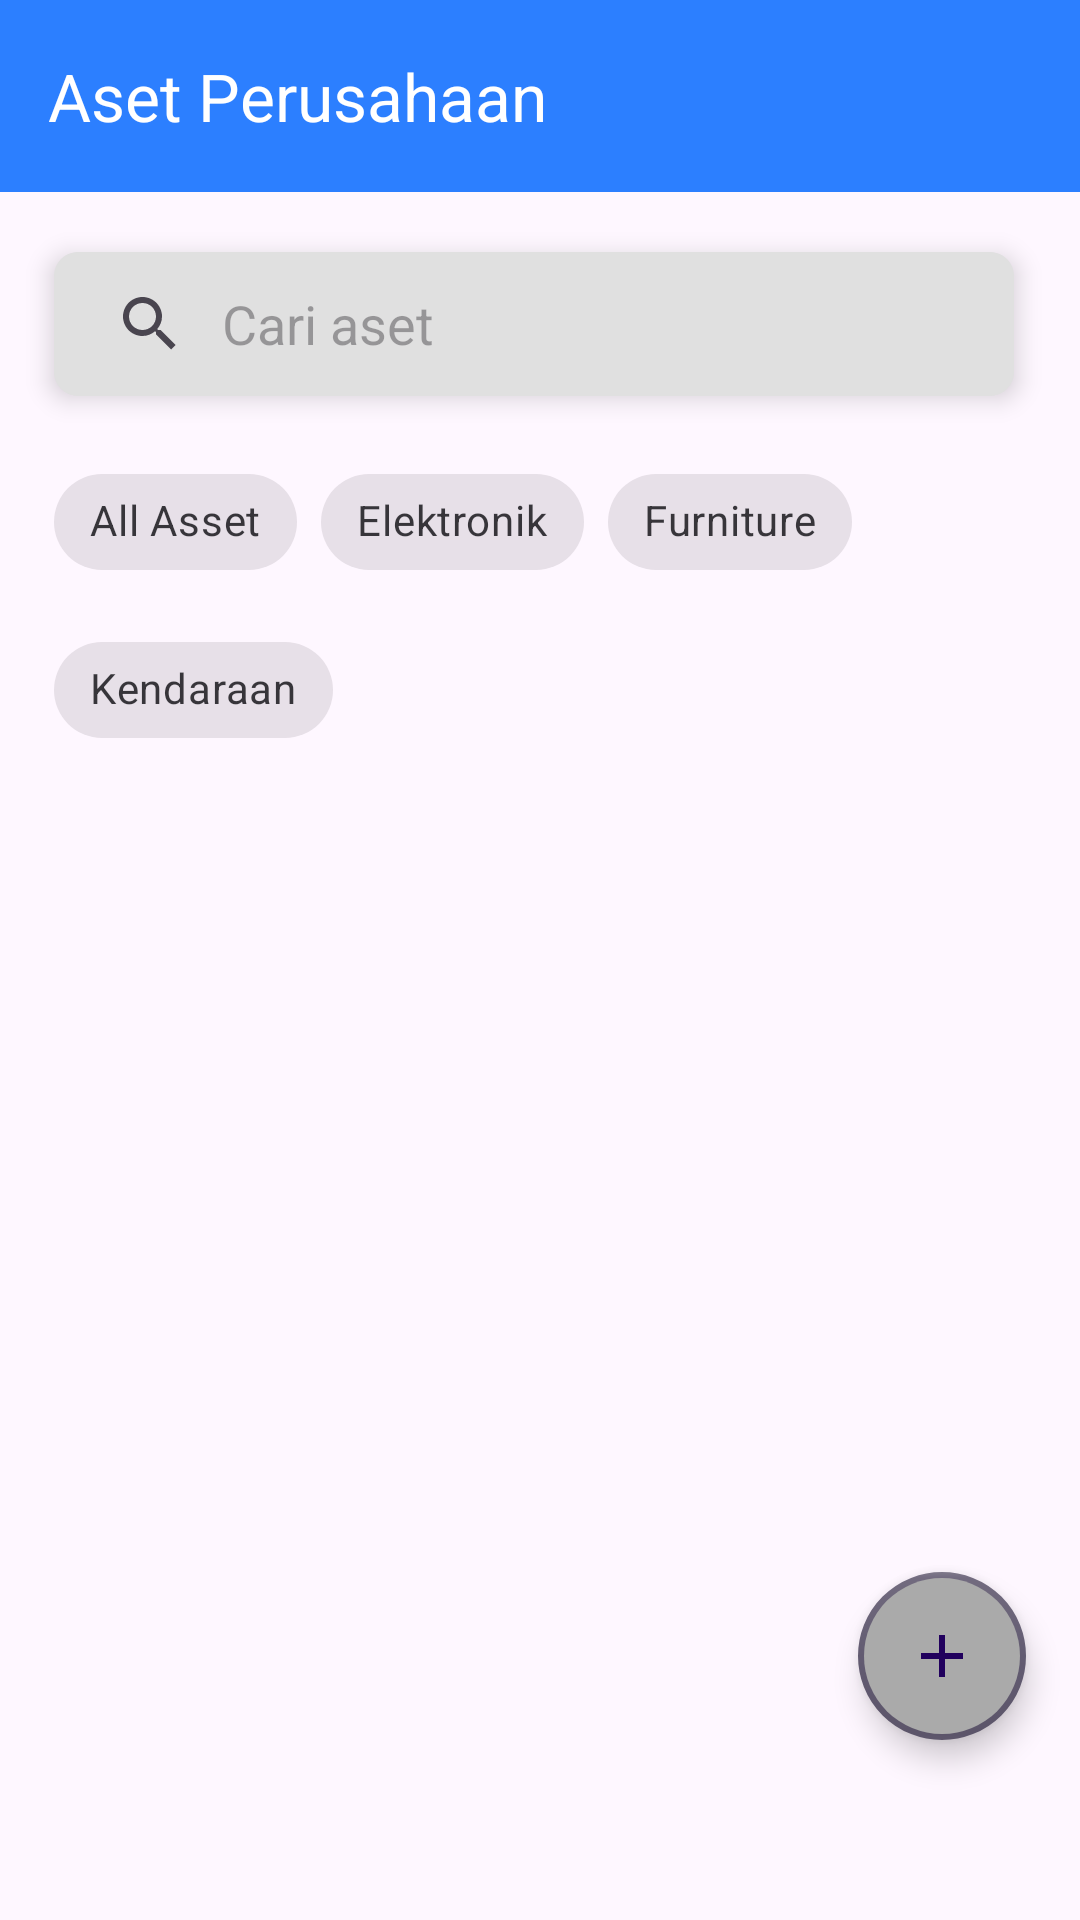

Point at icon controls on the screen. Image size 1080×1920, points as (x=x, y=y).
Tambah aset baru: (x=942, y=1656)
